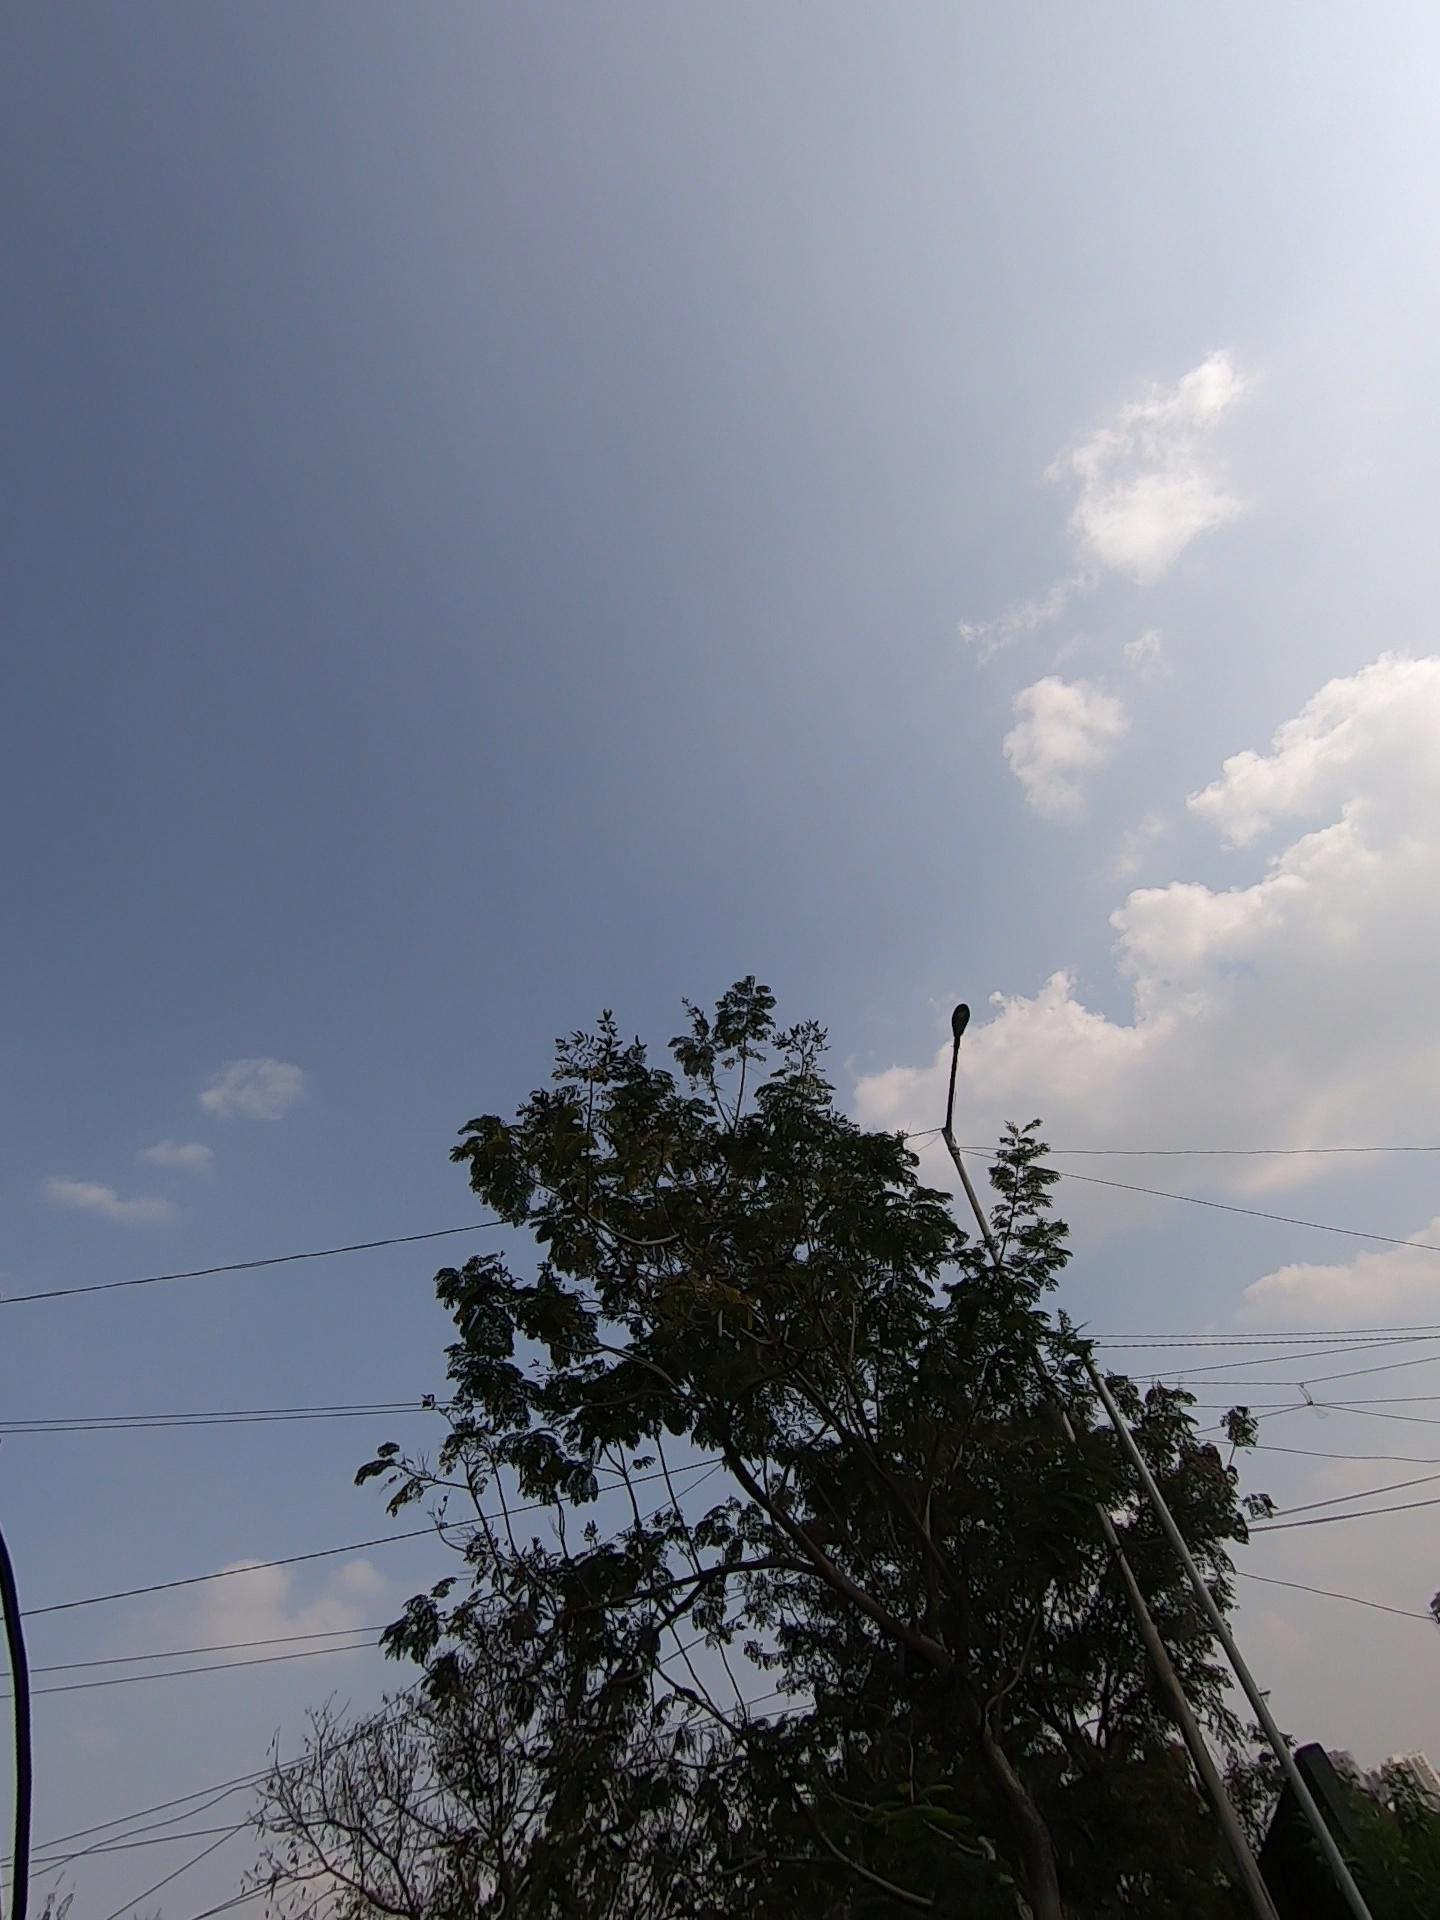off: (865, 940, 1027, 1276)
